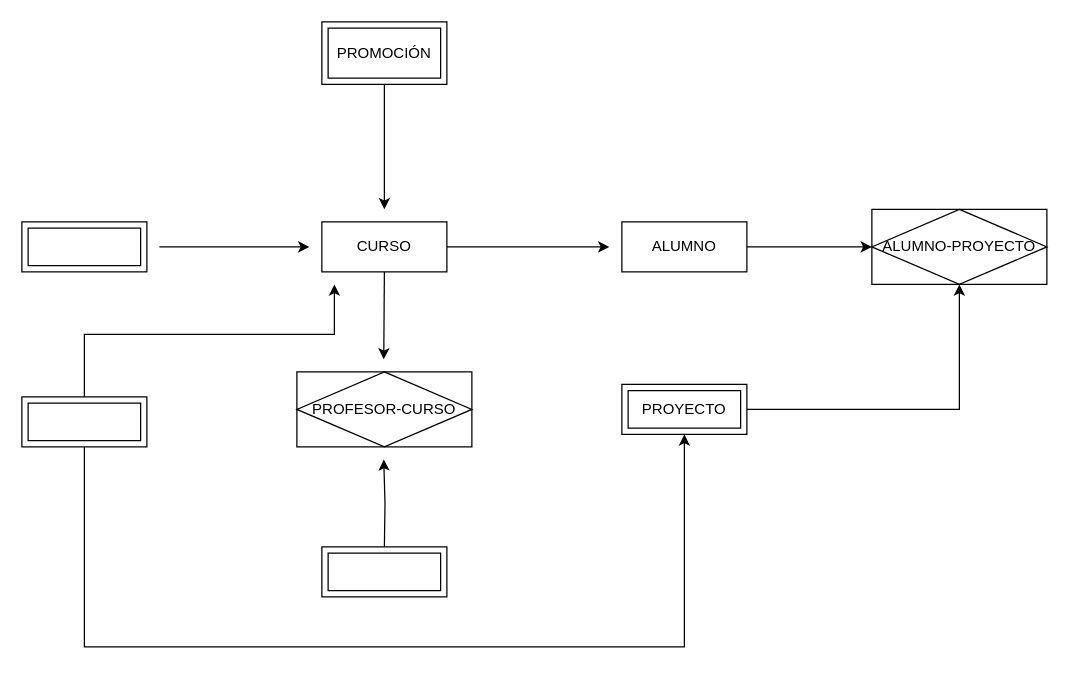
Image size: 1069x679. Some labels were removed from this diagram. Each missing label, with the centre of its shape:
"CAMPUS" belongs at pixel 84 246.
"STAFF" belongs at pixel 384 571.
"VERTICAL" belongs at pixel 84 421.
